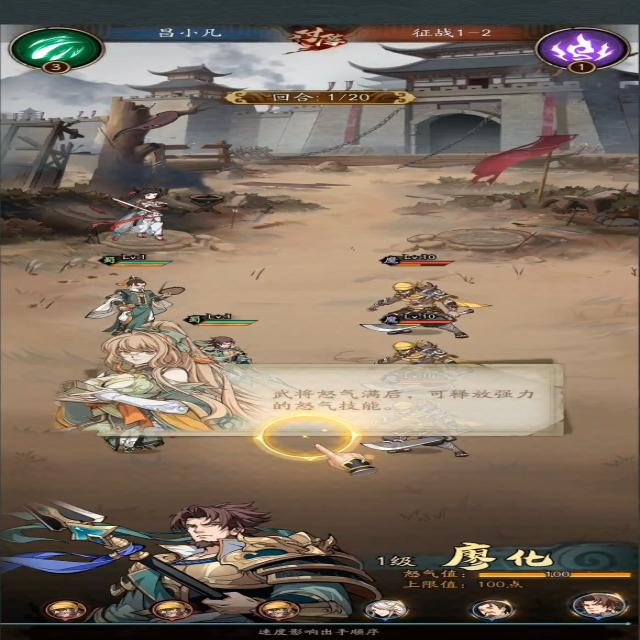hint-guide: (55, 327, 583, 460)
